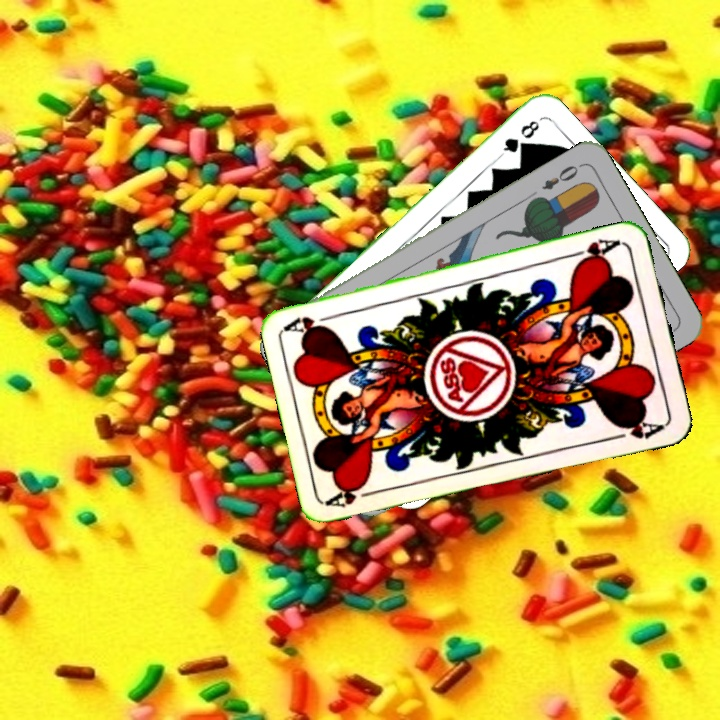EO: (537, 159, 585, 193)
G8: (496, 116, 543, 160)
HA: (324, 478, 383, 510), (566, 235, 624, 267)
